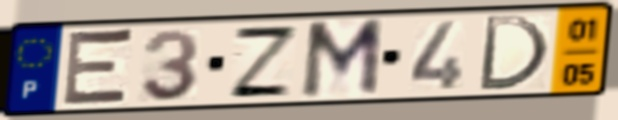3: (139, 26, 204, 104)
4: (407, 18, 467, 92)
D: (474, 13, 553, 93)
E: (58, 26, 138, 109)
M: (297, 16, 387, 102)
Z: (224, 25, 303, 100)
